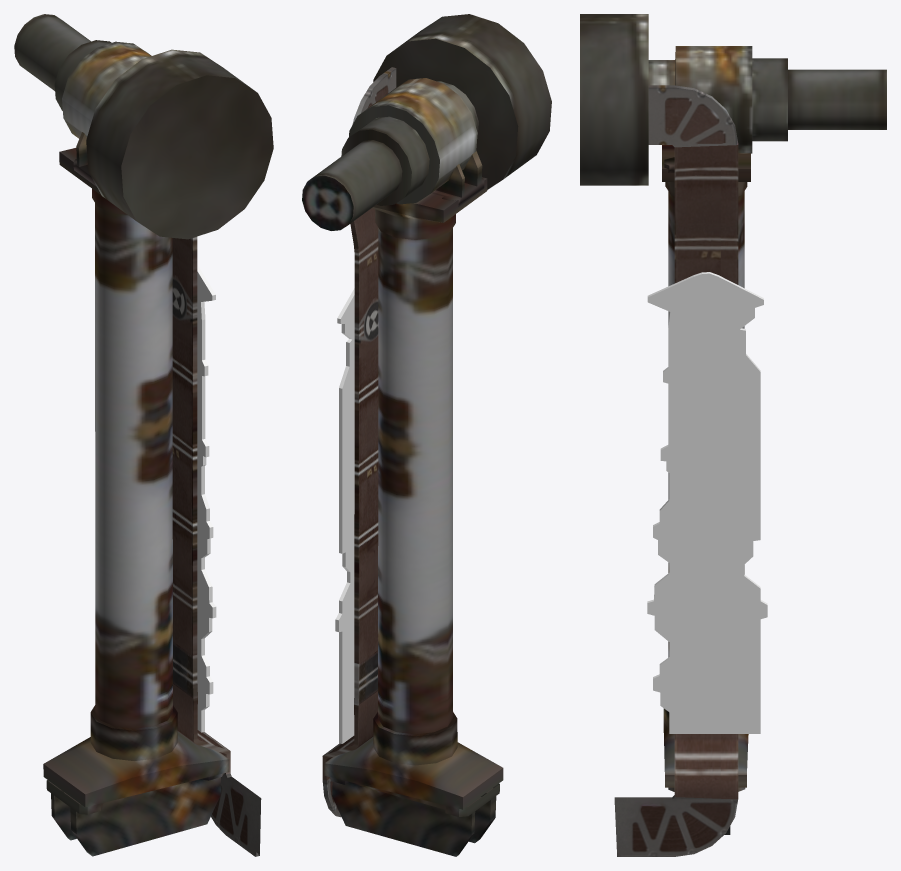
Rendered from arm_lower_link.dae.
The picture shows the model from 3 angles, left to right: view 1: azimuth 30°, elevation 25°; view 2: azimuth 150°, elevation 25°; view 3: azimuth 270°, elevation 25°; orthographic projection. The views are drawn at different scales.
Visible parts, largest first — view 1: arm_lower_link; view 2: arm_lower_link; view 3: arm_lower_link.
Boxes of the visible parts, x1,y1,x2,y2 form: arm_lower_link: (14, 14, 273, 856); arm_lower_link: (302, 14, 551, 856); arm_lower_link: (580, 14, 886, 856).
Size of the model in its own units: 0.1786 by 0.3068 by 0.879.
Materials: 4 (3 with a texture image).
